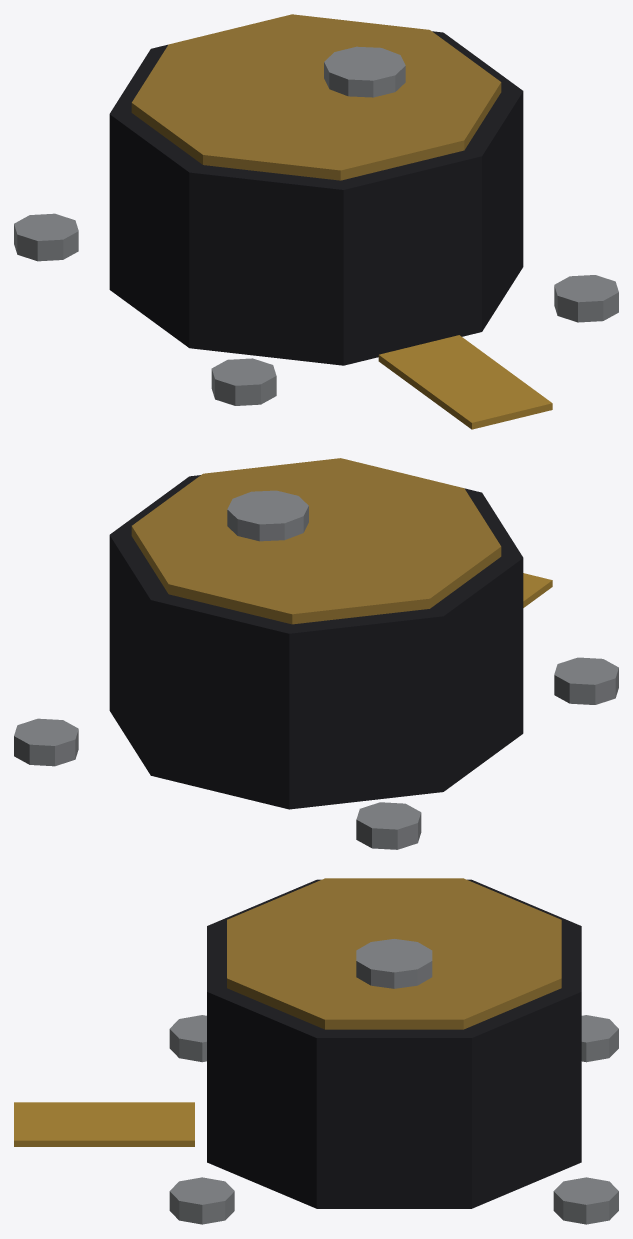
File: heat-probe.glb
3 views of the same model, one above another, from view 1: azimuth 30°, elevation 25°; view 2: azimuth 150°, elevation 25°; view 3: azimuth 270°, elevation 25° (orthographic). The views are drawn at different scales.
Parts seen in each view (by area): view 1: cover-heat-probe; view 2: cover-heat-probe; view 3: cover-heat-probe.
Part boxes in pixels (box(x1,y1,x2,y2)): cover-heat-probe: box(14, 14, 618, 429); cover-heat-probe: box(14, 458, 618, 849); cover-heat-probe: box(14, 878, 618, 1224).
Size of the model in its own units: 0.2481 by 0.12 by 0.3341.
